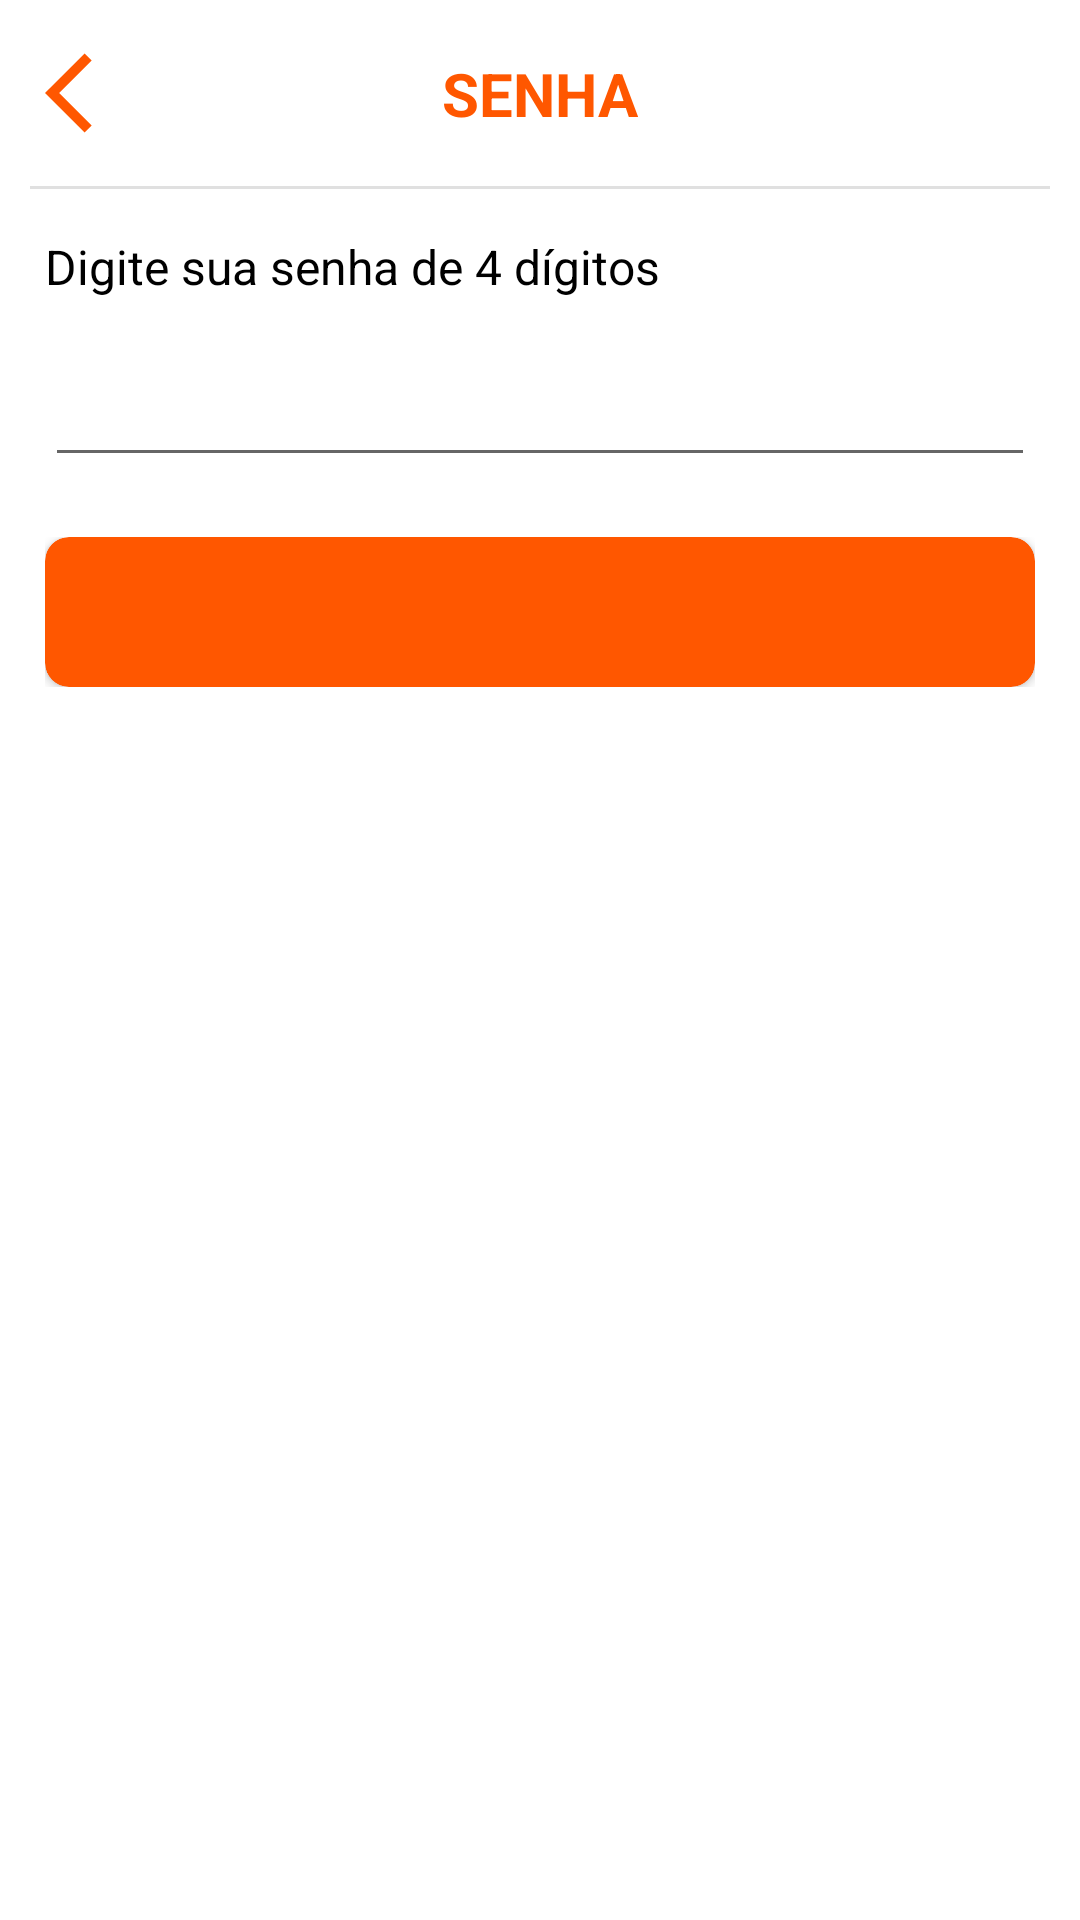

Icon click points for this 1080w x 1920h phone screenshot, format (x,y):
back: (68,93)
